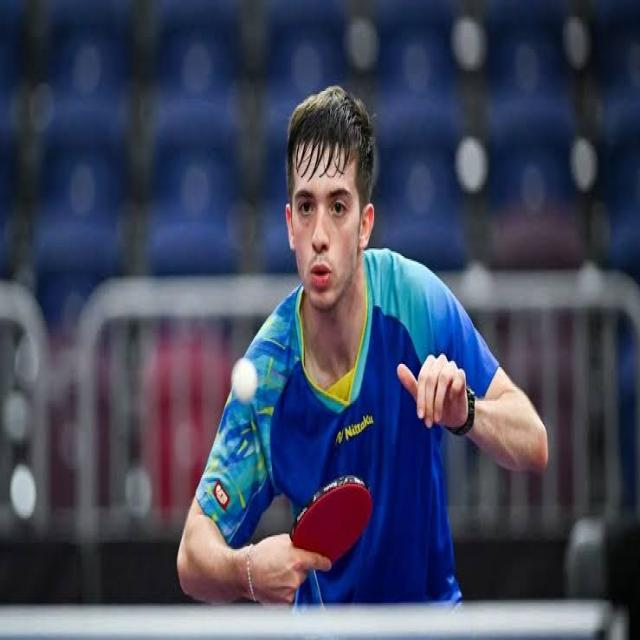TT Racket: (278, 446, 384, 583)
